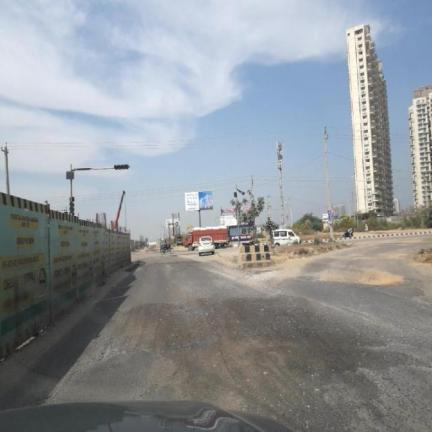Road: (0, 238, 431, 430)
